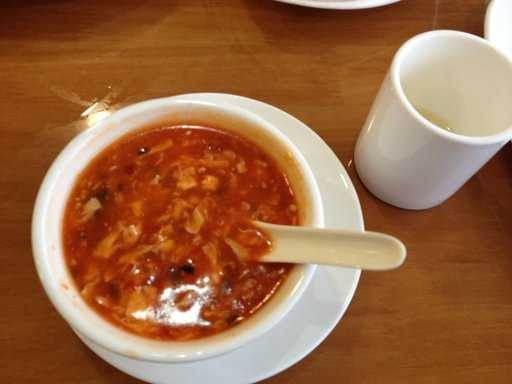soup: (52, 99, 308, 333)
